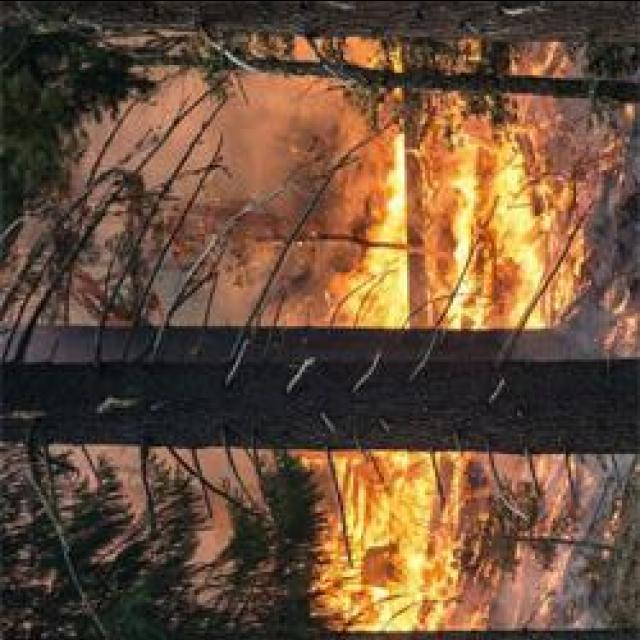fire: (311, 447, 471, 632), (444, 124, 548, 334), (324, 130, 419, 326)
